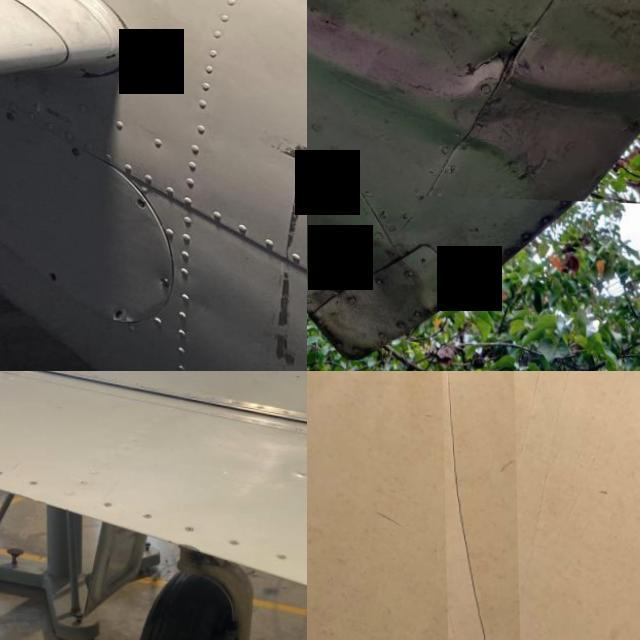Crack: (442, 371, 487, 640), (307, 34, 335, 77)
Dent: (307, 0, 640, 200), (307, 212, 432, 354), (281, 461, 307, 480)
Missing_Fastener: (42, 270, 59, 282), (111, 306, 124, 318)
